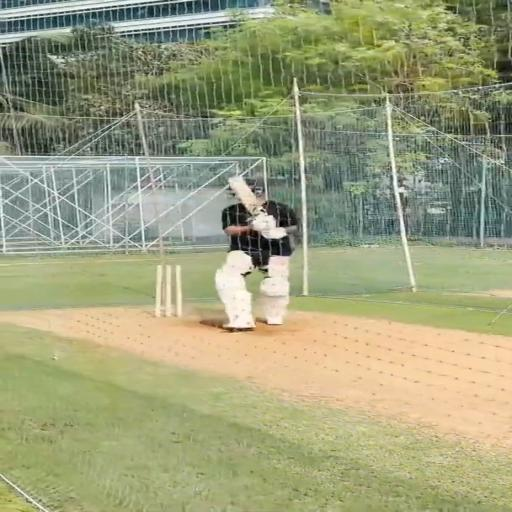Cricket bat: (229, 176, 264, 215)
